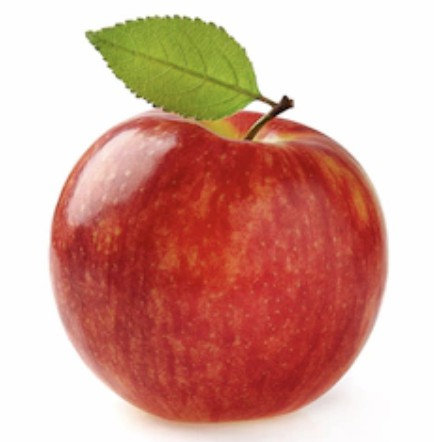fresh_apple: (40, 101, 391, 420)
